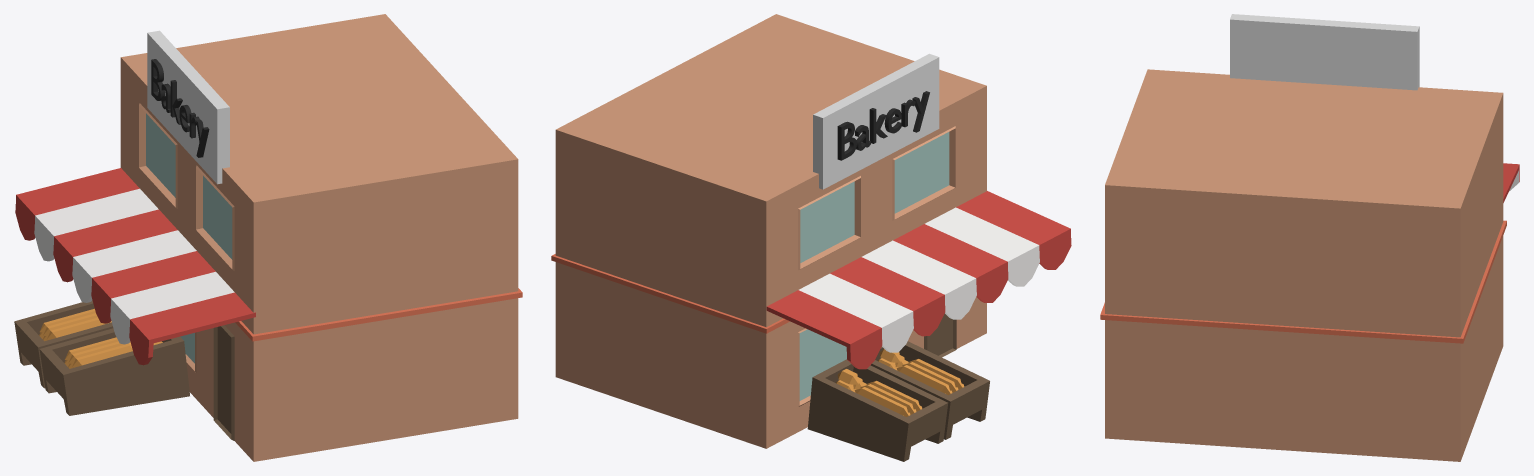
The model's file is Bakery.fbx.
3 renders of one model, left to right at view 1: azimuth 30°, elevation 25°; view 2: azimuth 150°, elevation 25°; view 3: azimuth 270°, elevation 25°, orthographic. The views are drawn at different scales.
Visible parts, largest first — view 1: Cube.001, Cube.000, Text.001; view 2: Cube.001, Cube.000, Text.001; view 3: Cube.001, Cube.000.
Part boxes in pixels (x1,y1,x2,y2): Cube.001: [14, 14, 522, 461]; Cube.000: [15, 168, 255, 365]; Text.001: [151, 59, 209, 157]; Cube.001: [551, 14, 989, 461]; Cube.000: [766, 191, 1071, 369]; Text.001: [837, 91, 929, 160]; Cube.001: [1100, 14, 1506, 461]; Cube.000: [1503, 163, 1519, 202].
Size of the model in its own units: 242 by 189 by 230.
